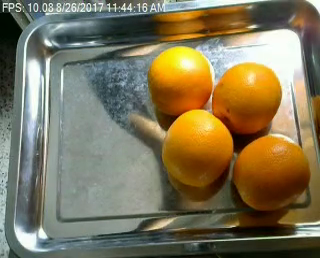Orange: (232, 134, 310, 210), (161, 108, 233, 186), (213, 62, 282, 134), (148, 45, 214, 115)
